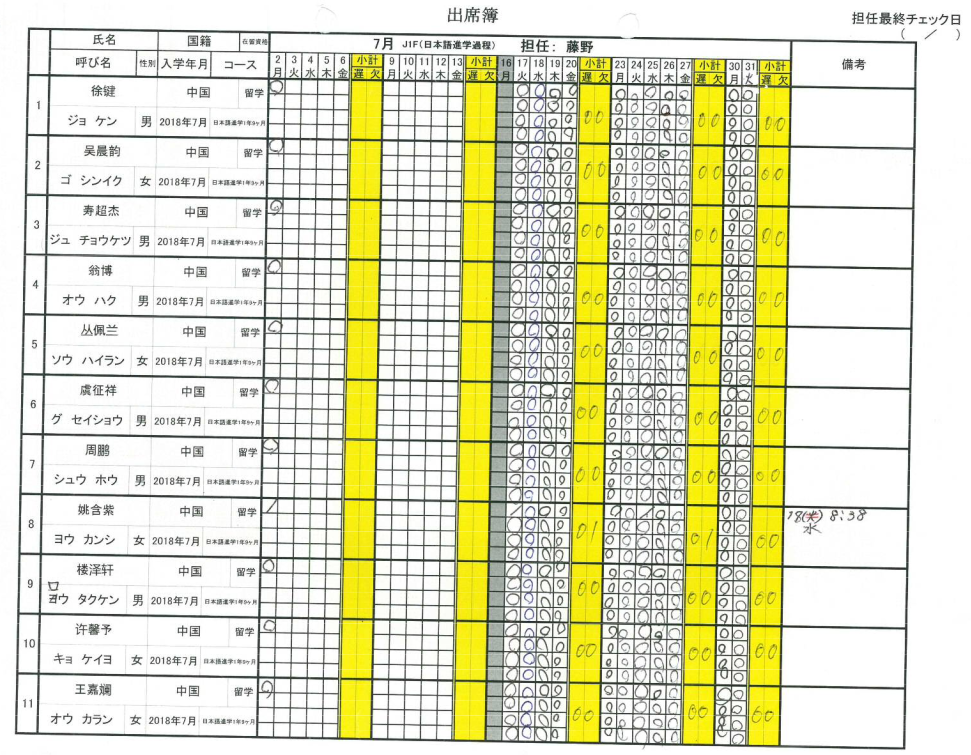/: (505, 501, 522, 518), (261, 497, 277, 513), (639, 505, 654, 521)
o: (508, 275, 527, 294), (509, 215, 529, 233), (554, 442, 574, 459), (655, 308, 673, 326), (673, 279, 691, 296), (656, 354, 673, 372), (522, 501, 540, 518), (635, 563, 652, 581), (503, 650, 520, 668), (519, 651, 537, 668), (522, 397, 541, 413), (267, 137, 284, 154), (722, 310, 739, 327), (537, 457, 554, 474), (552, 531, 569, 548), (520, 620, 537, 637), (716, 684, 733, 701), (715, 714, 732, 731), (267, 196, 283, 214), (529, 96, 547, 112), (657, 204, 675, 220), (540, 381, 558, 397), (638, 429, 656, 445), (522, 442, 540, 458), (553, 547, 571, 563), (619, 562, 635, 580), (651, 624, 669, 640), (716, 639, 732, 657), (503, 680, 519, 698), (500, 710, 518, 726), (258, 675, 274, 692), (627, 84, 643, 101), (628, 99, 645, 115), (611, 98, 628, 114), (545, 97, 562, 113), (528, 171, 544, 188), (675, 159, 691, 176), (742, 85, 759, 101), (544, 201, 560, 218), (608, 233, 625, 249), (608, 263, 625, 279), (656, 263, 672, 280), (721, 281, 738, 297), (608, 338, 624, 355), (638, 354, 654, 371), (672, 370, 688, 387), (508, 396, 524, 413), (636, 534, 653, 550), (668, 548, 685, 564), (506, 562, 522, 579), (553, 593, 570, 609), (718, 596, 735, 612), (503, 636, 520, 652), (551, 667, 568, 683), (520, 682, 537, 698), (265, 258, 283, 273), (262, 438, 280, 453), (627, 115, 645, 130), (673, 249, 691, 264), (673, 295, 691, 310), (640, 310, 658, 325), (537, 531, 552, 549), (732, 626, 751, 640), (501, 696, 520, 710), (264, 317, 280, 333), (660, 115, 676, 131), (660, 99, 676, 115), (644, 114, 660, 130), (675, 144, 691, 160), (740, 145, 756, 161), (559, 262, 575, 278), (528, 308, 544, 324), (511, 306, 527, 322), (673, 339, 689, 355), (607, 354, 623, 370), (736, 357, 752, 373), (622, 384, 638, 400), (738, 385, 754, 401), (622, 444, 638, 460), (524, 456, 540, 472), (507, 457, 523, 473), (521, 532, 537, 548), (621, 534, 637, 550), (716, 550, 732, 566), (735, 566, 751, 582), (537, 652, 553, 668), (520, 697, 536, 713), (536, 712, 552, 728), (602, 682, 618, 698), (733, 685, 749, 701), (732, 715, 748, 731), (561, 127, 578, 142), (513, 96, 528, 113), (513, 112, 530, 127), (513, 142, 530, 157), (511, 172, 528, 187), (658, 159, 675, 174), (658, 190, 675, 205), (724, 175, 741, 190), (741, 101, 758, 116), (509, 233, 526, 248), (658, 234, 673, 251), (722, 235, 739, 250), (559, 246, 574, 263), (608, 280, 625, 295), (640, 294, 657, 309), (639, 323, 654, 340), (655, 325, 672, 340), (640, 340, 657, 355), (623, 354, 640, 369), (622, 368, 639, 383), (507, 382, 524, 397), (736, 401, 753, 416), (605, 400, 622, 415), (558, 397, 573, 414), (621, 460, 638, 475), (606, 459, 623, 474), (504, 516, 521, 531), (605, 503, 620, 520), (620, 519, 637, 534), (721, 505, 736, 522), (505, 591, 520, 608), (716, 566, 733, 581), (504, 622, 521, 637), (521, 667, 536, 684), (602, 622, 617, 639), (651, 667, 666, 684), (552, 681, 567, 698), (664, 728, 681, 743), (610, 129, 628, 143), (642, 190, 660, 204), (740, 235, 754, 253), (722, 266, 740, 280), (673, 353, 687, 371), (639, 370, 657, 384), (553, 608, 571, 622), (603, 579, 621, 593), (635, 713, 649, 731), (652, 460, 671, 473), (263, 378, 279, 393), (261, 557, 277, 572), (611, 84, 627, 99), (644, 83, 659, 99), (661, 85, 677, 100), (726, 101, 742, 116), (644, 128, 659, 144), (546, 112, 561, 128), (544, 143, 560, 158), (560, 157, 575, 173), (529, 157, 545, 172), (611, 144, 627, 159), (627, 174, 642, 190), (642, 175, 658, 190), (725, 160, 741, 175), (511, 202, 527, 217), (527, 202, 543, 217), (560, 203, 576, 218), (611, 203, 627, 218), (609, 218, 624, 234), (544, 217, 560, 232), (543, 232, 559, 247), (527, 246, 543, 261), (624, 281, 640, 296), (738, 311, 754, 326), (559, 308, 574, 324), (543, 325, 559, 340), (559, 323, 574, 339), (623, 325, 639, 340), (672, 325, 688, 340), (543, 352, 558, 368), (559, 353, 574, 369), (722, 356, 737, 372), (525, 367, 541, 382), (525, 382, 540, 398), (670, 384, 686, 399), (722, 386, 737, 402), (638, 399, 654, 414), (669, 414, 685, 429), (737, 416, 752, 432), (720, 431, 736, 446), (655, 446, 671, 461), (670, 475, 686, 490), (506, 531, 522, 546), (603, 548, 618, 564), (720, 521, 735, 537), (719, 536, 734, 552), (537, 577, 553, 592), (522, 607, 538, 622), (604, 564, 620, 579), (734, 580, 750, 595), (669, 625, 684, 641), (635, 638, 650, 654), (634, 669, 650, 684), (732, 639, 747, 655), (716, 671, 732, 686), (666, 684, 682, 699), (732, 700, 747, 716), (666, 698, 682, 713), (651, 700, 666, 716), (258, 617, 275, 631), (529, 83, 546, 97), (560, 144, 577, 158), (674, 176, 691, 190), (625, 189, 642, 203), (675, 221, 692, 235), (722, 297, 739, 311), (673, 310, 690, 324), (609, 310, 626, 324), (543, 307, 557, 324), (509, 323, 526, 337), (656, 341, 673, 355), (556, 382, 573, 396), (508, 413, 525, 427), (606, 430, 623, 444), (507, 443, 524, 457), (720, 446, 737, 460), (539, 488, 556, 502), (636, 520, 653, 534), (537, 607, 554, 621), (617, 623, 634, 637), (652, 683, 666, 700), (510, 248, 528, 261), (655, 371, 673, 384), (556, 516, 569, 534), (536, 638, 554, 651), (636, 651, 649, 669), (618, 655, 636, 668), (546, 83, 561, 98), (676, 84, 691, 99), (726, 85, 741, 100), (611, 114, 626, 129), (545, 173, 560, 188), (643, 160, 658, 175), (610, 174, 625, 189), (674, 190, 689, 205), (673, 205, 688, 220), (724, 220, 739, 235), (740, 249, 755, 264), (642, 280, 657, 295), (528, 292, 543, 307), (609, 295, 624, 310), (737, 342, 752, 357), (558, 338, 573, 353), (606, 384, 621, 399), (541, 399, 556, 414), (541, 414, 556, 429), (541, 428, 556, 443), (638, 444, 653, 459), (638, 475, 653, 490), (653, 475, 668, 490), (522, 547, 537, 562), (522, 563, 537, 578), (538, 562, 553, 577), (538, 593, 553, 608), (653, 564, 668, 579), (719, 580, 734, 595), (635, 623, 650, 638), (653, 655, 668, 670), (635, 684, 650, 699), (716, 701, 731, 716), (635, 700, 650, 715), (616, 712, 631, 727), (617, 728, 632, 743), (650, 714, 665, 729), (513, 82, 529, 96), (644, 100, 660, 114), (562, 98, 578, 112), (562, 113, 578, 127), (512, 127, 528, 141), (529, 128, 545, 142), (544, 187, 560, 201), (659, 145, 675, 159), (626, 159, 642, 173), (742, 117, 758, 131), (641, 205, 657, 219), (529, 217, 543, 233), (626, 236, 642, 250), (643, 236, 659, 250), (627, 264, 641, 280), (657, 280, 673, 294), (527, 278, 541, 294), (625, 309, 639, 325), (722, 341, 738, 355), (624, 339, 640, 353), (722, 372, 738, 386), (558, 368, 574, 382), (541, 369, 557, 383), (623, 400, 639, 414), (653, 416, 669, 430), (507, 426, 523, 440), (540, 444, 556, 458), (719, 462, 735, 476), (637, 461, 651, 477), (622, 488, 636, 504), (557, 489, 573, 503), (653, 518, 667, 534), (670, 533, 684, 549), (522, 578, 538, 592), (652, 577, 666, 593), (538, 624, 554, 638), (651, 640, 667, 654), (619, 640, 633, 656), (716, 625, 732, 639), (537, 696, 551, 712), (552, 727, 568, 741), (632, 728, 648, 742), (667, 715, 681, 731), (677, 114, 690, 131), (511, 187, 528, 200), (726, 190, 739, 207), (558, 235, 575, 248), (510, 293, 527, 306), (525, 324, 542, 337), (719, 402, 736, 415), (619, 476, 636, 489), (636, 549, 653, 562), (505, 608, 522, 621), (269, 78, 284, 92), (563, 82, 578, 96), (727, 116, 741, 131), (660, 129, 675, 143), (530, 112, 544, 127), (513, 158, 528, 172), (628, 144, 642, 159), (611, 160, 626, 174), (741, 161, 755, 176), (741, 176, 755, 191), (740, 191, 755, 205), (627, 204, 641, 219), (659, 220, 673, 235), (642, 220, 657, 234), (658, 249, 672, 264), (610, 250, 625, 264), (641, 264, 655, 279), (738, 282, 753, 296), (559, 294, 573, 309), (609, 325, 624, 339), (511, 338, 526, 352), (738, 372, 753, 386), (510, 368, 525, 382), (655, 385, 669, 400), (671, 400, 685, 415), (557, 413, 571, 428), (720, 415, 735, 429), (607, 444, 621, 459), (672, 446, 687, 460), (555, 458, 570, 472), (507, 474, 522, 488), (524, 474, 539, 488), (557, 473, 571, 488), (737, 477, 751, 492), (638, 490, 653, 504), (537, 549, 552, 563), (655, 534, 669, 549), (554, 563, 569, 577), (522, 592, 537, 606), (604, 594, 619, 608), (654, 595, 668, 610), (669, 594, 683, 609), (666, 640, 681, 654), (604, 638, 618, 653), (553, 698, 567, 713), (731, 732, 746, 746), (602, 698, 616, 713), (528, 188, 544, 201), (725, 147, 741, 160), (558, 279, 574, 292), (544, 293, 557, 309), (657, 296, 673, 309), (739, 297, 755, 310), (722, 327, 738, 340), (527, 339, 543, 352), (510, 354, 526, 367), (671, 431, 687, 444), (655, 431, 671, 444), (525, 427, 541, 440), (507, 488, 523, 501), (538, 505, 554, 518), (539, 519, 555, 532), (670, 578, 683, 594), (670, 609, 683, 625), (669, 655, 682, 671), (502, 726, 518, 739), (716, 728, 729, 744), (617, 699, 633, 712), (600, 727, 616, 740), (650, 729, 666, 742), (627, 129, 644, 141), (518, 727, 535, 739), (727, 132, 741, 146), (530, 143, 544, 157), (644, 145, 658, 159), (659, 175, 673, 189), (740, 221, 754, 235), (675, 236, 689, 250), (543, 264, 557, 278), (739, 266, 753, 280), (543, 279, 557, 293), (656, 402, 670, 416), (607, 416, 621, 430), (640, 416, 654, 430), (736, 463, 750, 477), (719, 476, 733, 490), (736, 521, 750, 535), (735, 551, 749, 565), (555, 578, 569, 592), (669, 564, 683, 578), (636, 579, 650, 593), (635, 610, 649, 624), (554, 623, 568, 637), (553, 653, 567, 667), (538, 684, 552, 698), (536, 726, 550, 740), (619, 685, 633, 699), (677, 99, 690, 114), (546, 129, 561, 142), (724, 250, 737, 265), (526, 263, 541, 276), (625, 296, 640, 309), (543, 339, 558, 352), (526, 355, 541, 368), (738, 431, 751, 446), (720, 491, 735, 504), (506, 547, 521, 560), (621, 581, 636, 594), (621, 594, 634, 609), (637, 595, 650, 610), (717, 611, 732, 624), (536, 669, 551, 682), (602, 667, 617, 680), (618, 669, 633, 682), (717, 655, 730, 670), (603, 713, 616, 728), (544, 250, 560, 262), (670, 462, 686, 474), (670, 505, 682, 521), (653, 551, 669, 563), (735, 595, 747, 611), (521, 519, 538, 530), (503, 669, 520, 680), (546, 158, 559, 172), (561, 175, 575, 188), (560, 187, 573, 201), (741, 132, 755, 145), (741, 207, 754, 221), (626, 219, 640, 232), (674, 266, 688, 279), (739, 328, 752, 342), (640, 385, 654, 398), (526, 414, 539, 428), (558, 429, 571, 443), (605, 475, 619, 488), (736, 492, 750, 505), (606, 488, 619, 502), (524, 489, 538, 502), (555, 506, 569, 519), (736, 537, 749, 551), (505, 577, 519, 590), (621, 610, 635, 623), (733, 656, 747, 669), (551, 713, 565, 726), (610, 190, 625, 202), (725, 208, 740, 220), (561, 220, 576, 232), (529, 232, 541, 247), (510, 264, 525, 276), (622, 430, 637, 442), (521, 639, 536, 651), (657, 506, 668, 522), (626, 249, 639, 262), (738, 447, 751, 460), (623, 506, 636, 519), (606, 533, 619, 546), (737, 508, 750, 521), (521, 713, 534, 726), (608, 370, 622, 382), (624, 416, 638, 428), (622, 549, 636, 561), (555, 638, 567, 652), (669, 670, 681, 684), (655, 492, 670, 503), (606, 520, 621, 531), (603, 656, 618, 667), (541, 475, 553, 488), (654, 610, 666, 623), (733, 672, 746, 684), (642, 250, 656, 261), (671, 521, 682, 535), (678, 131, 690, 143), (672, 491, 685, 502), (735, 613, 747, 624)
